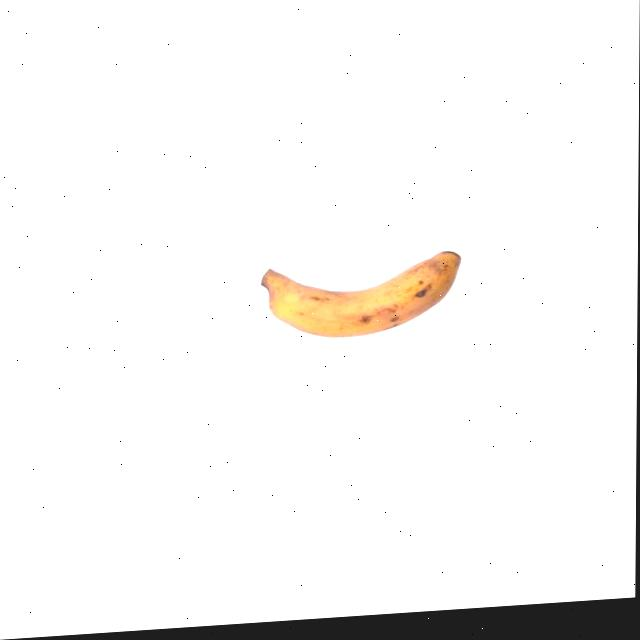banana: (256, 247, 465, 347)
